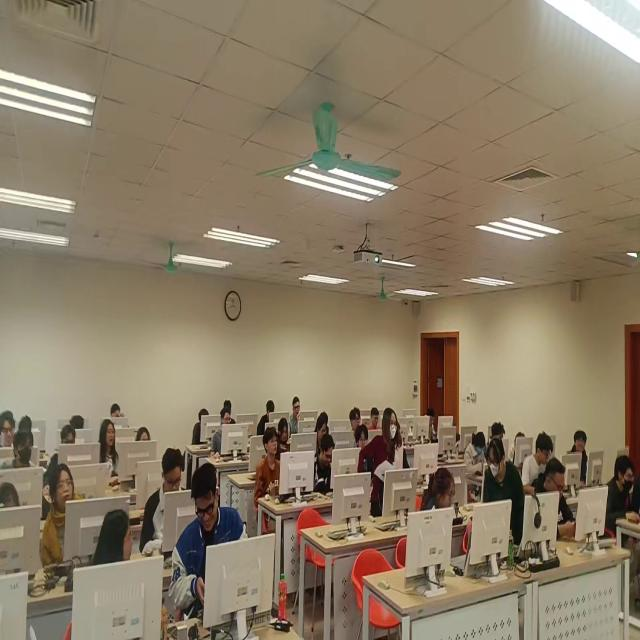raise_head: (41, 460, 79, 573), (257, 423, 283, 498), (1, 428, 36, 476), (99, 418, 120, 484), (573, 424, 591, 486), (1, 409, 20, 451), (290, 395, 302, 438), (135, 424, 153, 447), (350, 405, 362, 432)
stand: (483, 434, 527, 555), (358, 407, 398, 521)
using_computer: (420, 465, 472, 577), (139, 448, 183, 556), (606, 452, 640, 532), (45, 423, 78, 497), (523, 431, 555, 494), (314, 429, 335, 495), (213, 407, 234, 456), (1, 478, 26, 515), (257, 397, 275, 440), (464, 429, 484, 467), (191, 409, 209, 447), (280, 419, 293, 456), (426, 408, 439, 444), (315, 415, 329, 447), (357, 422, 371, 453), (110, 399, 125, 423), (492, 419, 507, 441), (72, 411, 86, 434), (227, 397, 238, 426), (370, 401, 380, 431), (19, 416, 35, 434)
using_phone: (171, 460, 252, 624), (531, 460, 579, 541)
